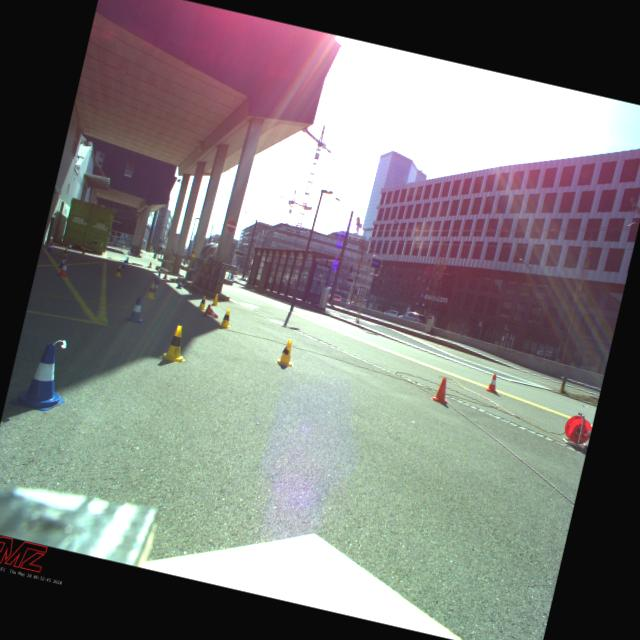blue_cone: (9, 338, 76, 414), (125, 295, 148, 324), (58, 254, 70, 270), (150, 278, 161, 292), (46, 242, 54, 252), (154, 272, 162, 282), (176, 278, 183, 289), (208, 250, 215, 260), (120, 260, 128, 268), (124, 256, 130, 264), (92, 238, 98, 244), (67, 243, 72, 250)
orange_cone: (429, 376, 453, 404), (484, 372, 502, 393), (56, 259, 72, 278), (203, 304, 220, 318), (162, 271, 169, 280)
yellow_cone: (158, 322, 192, 364), (274, 338, 298, 368), (218, 308, 234, 328), (144, 282, 158, 300), (196, 294, 208, 310), (210, 292, 221, 306), (114, 264, 124, 278), (60, 247, 70, 259), (80, 247, 87, 256), (190, 248, 197, 256), (148, 260, 153, 268), (170, 255, 175, 262)
